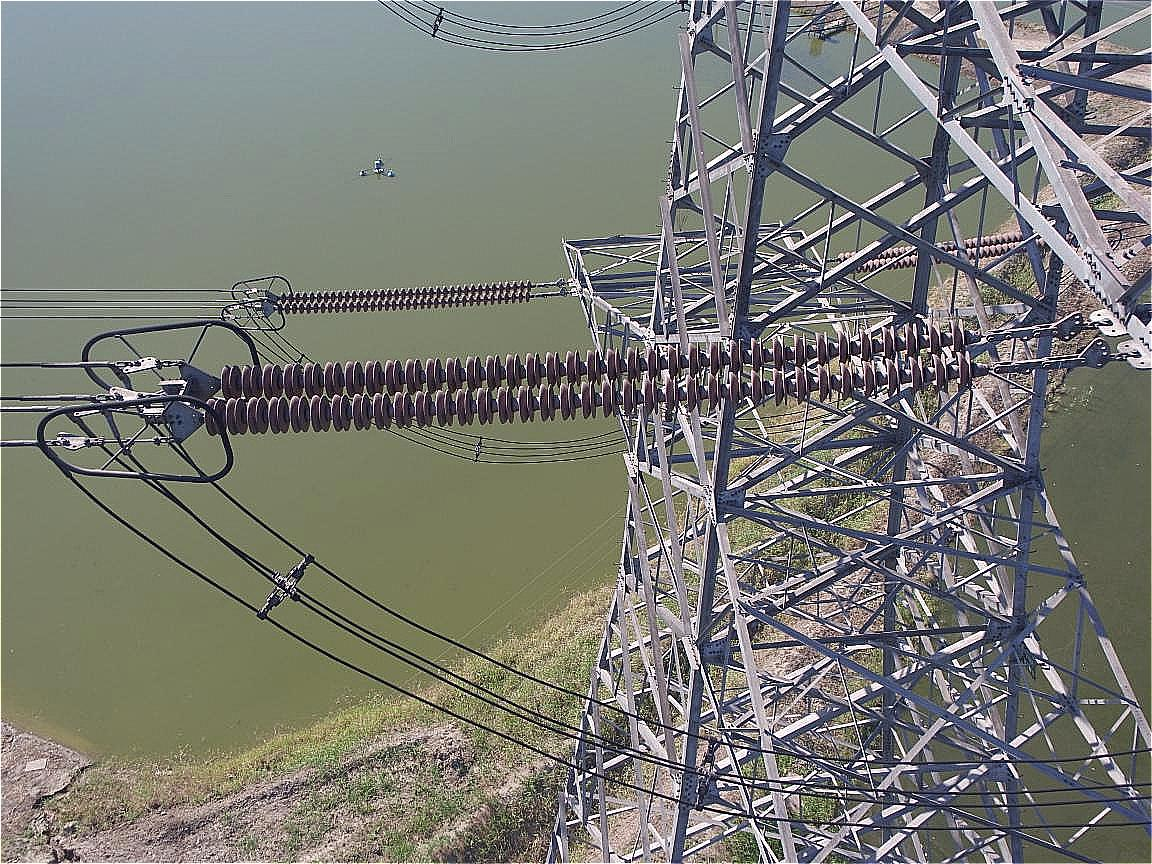insultor1: (269, 272, 544, 315)
insultor2: (189, 322, 984, 422)
